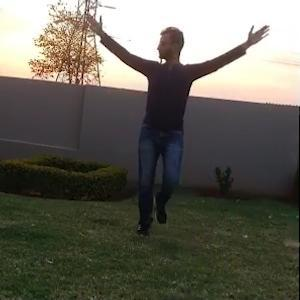takeoff: (93, 24, 268, 225)
